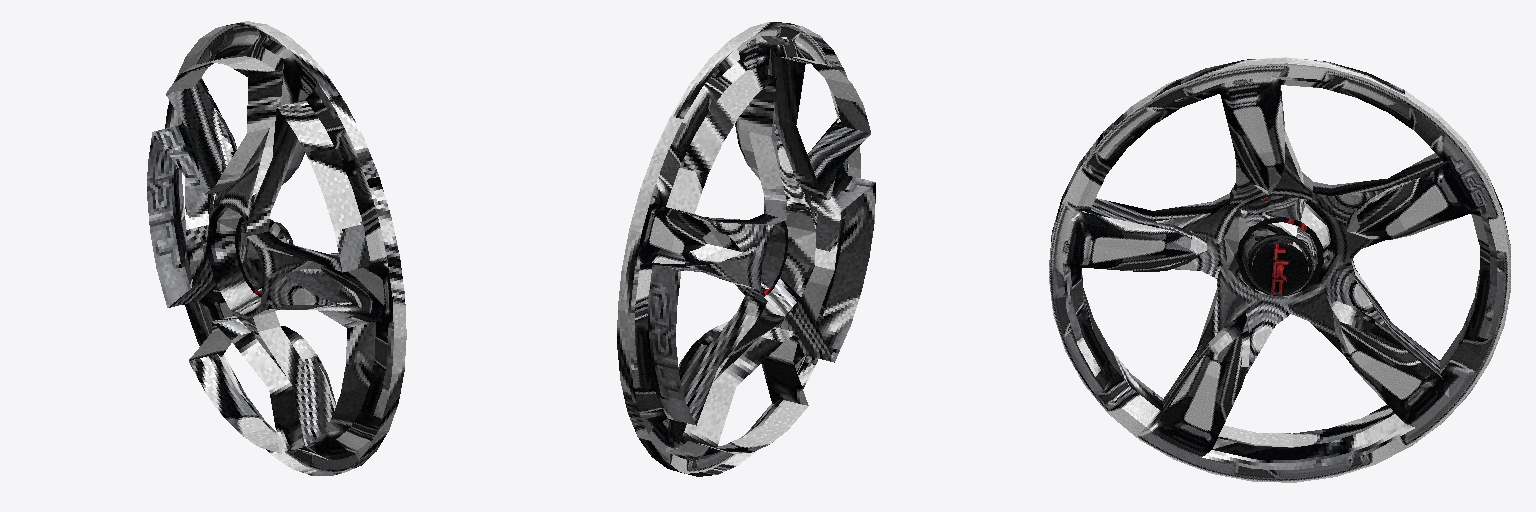
3 views of the same model, side by side, from view 1: azimuth 30°, elevation 25°; view 2: azimuth 150°, elevation 25°; view 3: azimuth 270°, elevation 25° (orthographic).
Parts seen in each view (by area): view 1: Rin1_Carro; view 2: Rin1_Carro; view 3: Rin1_Carro.
Part boxes in pixels (x1,y1,x2,y2): Rin1_Carro: (147, 21, 406, 475); Rin1_Carro: (617, 22, 875, 476); Rin1_Carro: (1049, 57, 1510, 482).
Size of the model in its own units: 2.89 by 16.52 by 16.51.
Materials: 1 (1 with a texture image).